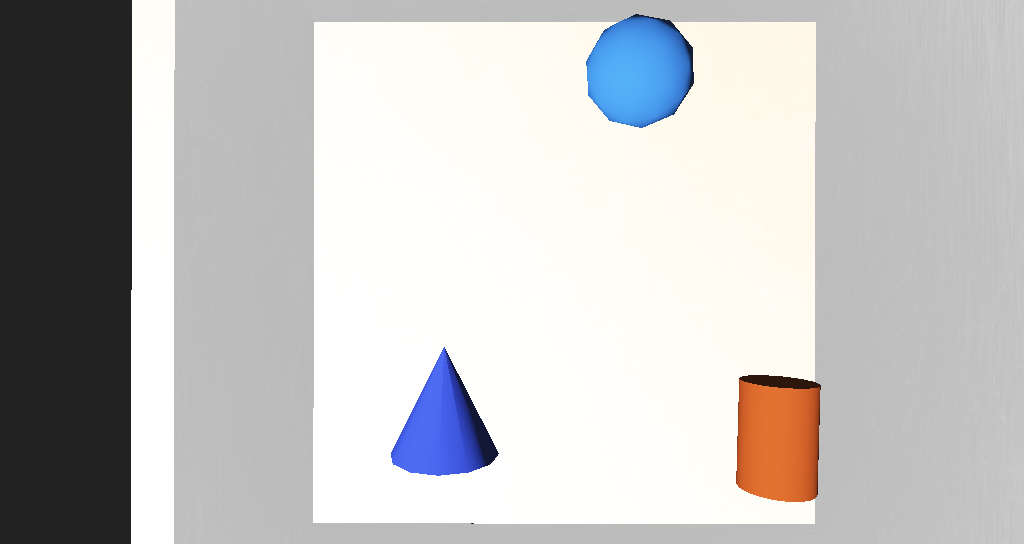cone: (600, 313, 653, 365)
cylinder: (397, 298, 465, 351)
sphere: (512, 162, 579, 210)
